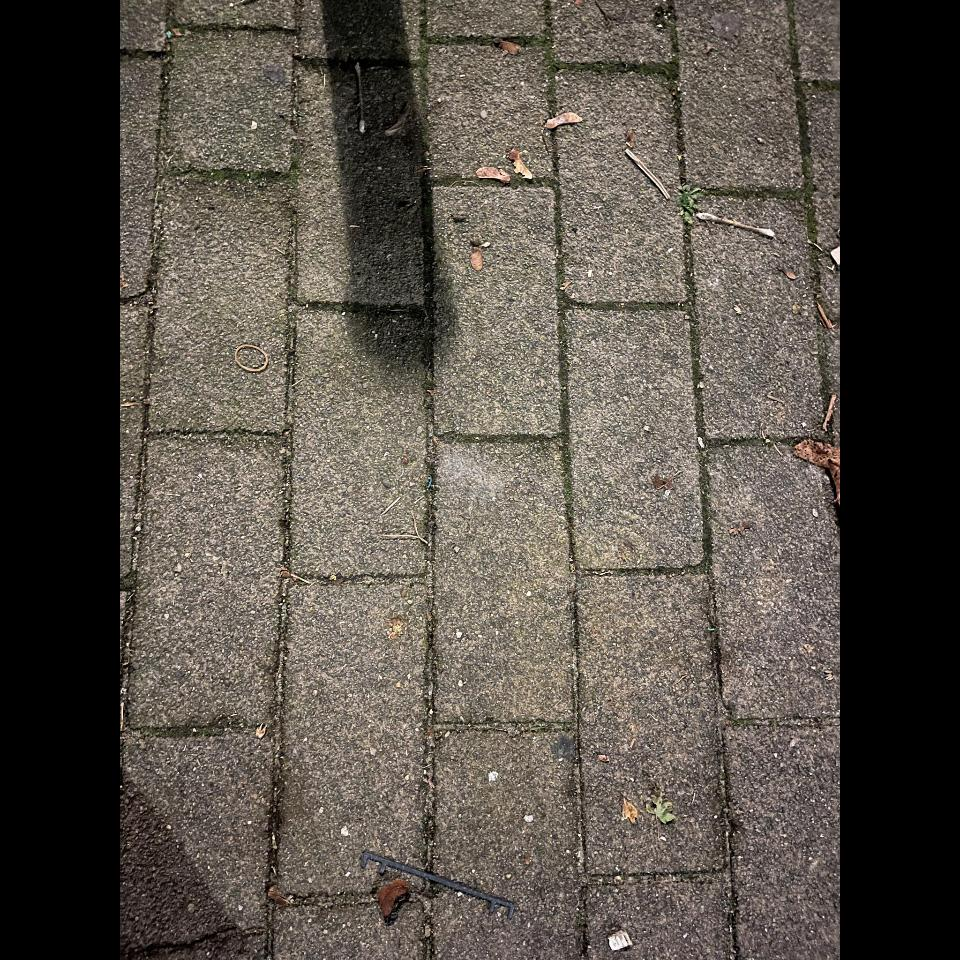weed: (679, 184, 703, 225)
